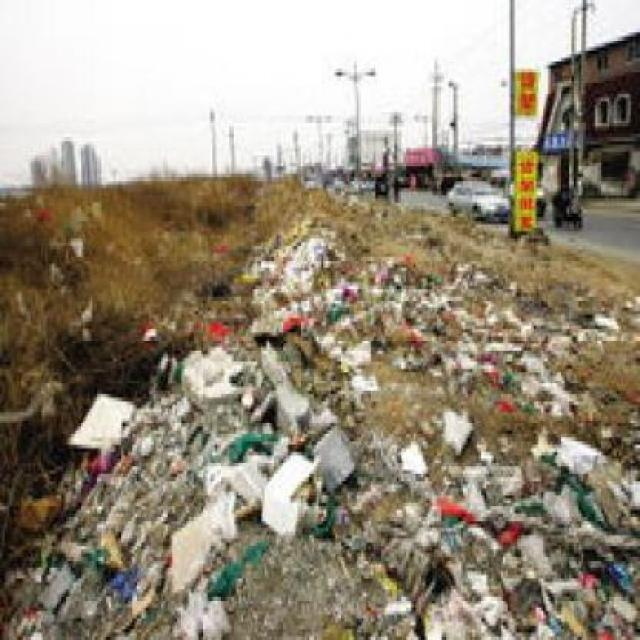garbage: (400, 380, 638, 637), (116, 383, 369, 549), (246, 209, 362, 480), (379, 247, 575, 406)
